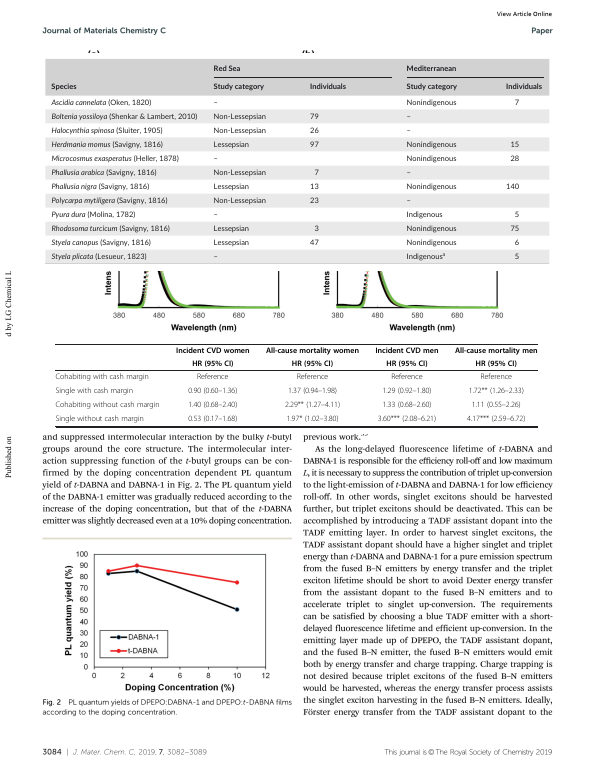borderless: (43, 58, 550, 265), (54, 342, 537, 426)
cell: (50, 111, 197, 123), (50, 153, 179, 165), (50, 223, 170, 235), (50, 195, 168, 207), (50, 125, 163, 137), (50, 139, 163, 151), (50, 167, 157, 179), (50, 97, 151, 109), (50, 237, 151, 249), (50, 181, 149, 193), (50, 251, 147, 263), (54, 400, 160, 410), (50, 209, 135, 221), (54, 372, 150, 382), (55, 414, 145, 424), (265, 346, 360, 355), (54, 386, 134, 396), (454, 346, 538, 355), (175, 346, 250, 355), (405, 62, 456, 75), (212, 111, 266, 123), (212, 125, 266, 137), (212, 167, 266, 179), (212, 195, 266, 207), (212, 81, 264, 93), (405, 81, 457, 93), (405, 97, 457, 109), (405, 139, 457, 151), (405, 153, 457, 165), (405, 181, 457, 193), (405, 223, 457, 235), (405, 237, 457, 249), (377, 414, 437, 424), (466, 414, 526, 424), (374, 346, 439, 355), (468, 386, 525, 396), (284, 400, 341, 410), (285, 414, 339, 424), (405, 250, 445, 263), (187, 386, 238, 396), (287, 386, 338, 396), (381, 386, 432, 396), (187, 400, 238, 410), (381, 400, 432, 410), (471, 400, 522, 410), (187, 414, 238, 424), (405, 209, 443, 221), (212, 139, 249, 151), (212, 181, 249, 193), (212, 223, 249, 235), (212, 237, 249, 249), (191, 359, 234, 369), (291, 359, 334, 369), (385, 359, 428, 369), (475, 359, 518, 369), (212, 62, 241, 75), (390, 372, 424, 382), (479, 372, 513, 382), (196, 372, 229, 382), (296, 372, 329, 382), (50, 81, 77, 93), (308, 83, 346, 91), (504, 83, 542, 91), (308, 111, 319, 123), (308, 125, 319, 137), (308, 139, 319, 151), (504, 184, 519, 191), (308, 184, 319, 191), (308, 198, 319, 205), (308, 240, 319, 247), (513, 237, 519, 249), (509, 142, 519, 149), (509, 156, 519, 163), (509, 226, 519, 233), (212, 100, 218, 107), (513, 100, 519, 107), (405, 114, 411, 121), (405, 128, 411, 135), (212, 156, 218, 163), (313, 170, 319, 177), (405, 170, 411, 177), (405, 198, 411, 205), (212, 212, 218, 219), (513, 212, 519, 219), (313, 226, 319, 233), (212, 254, 218, 261), (513, 254, 519, 261)
